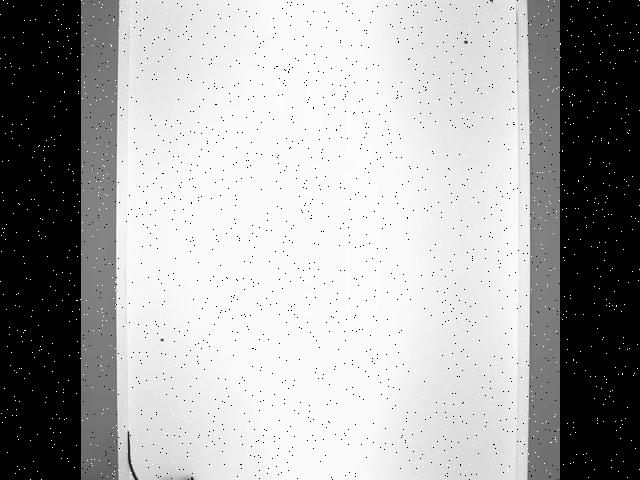Tikus: (125, 426, 199, 480)
